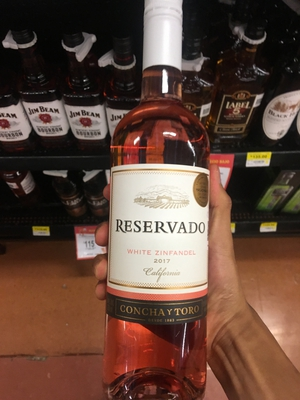reservado white zinfandel: (101, 19, 212, 397)
